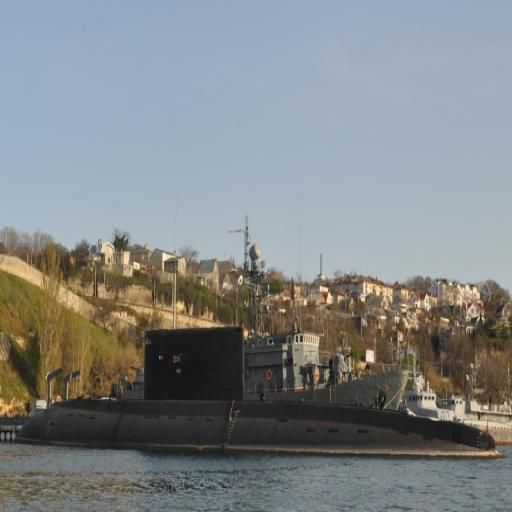submarine: (15, 328, 505, 457)
